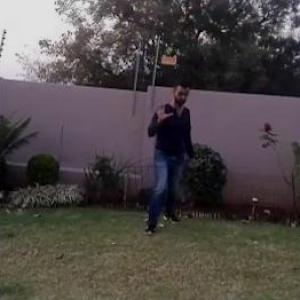follow_hand: (151, 96, 174, 125)
